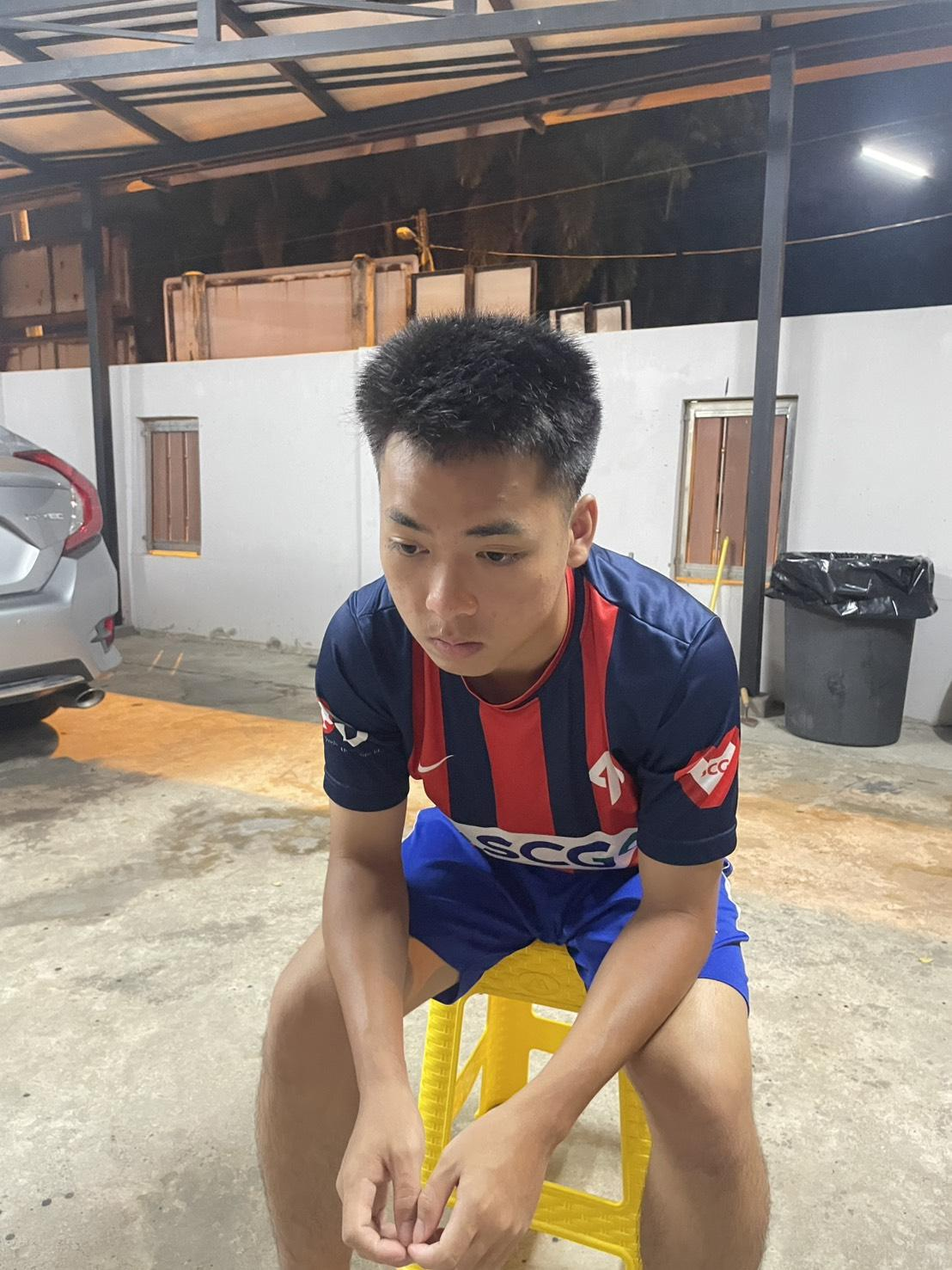BadPosture: (315, 298, 739, 1002), (315, 315, 747, 1002), (315, 312, 740, 880)
